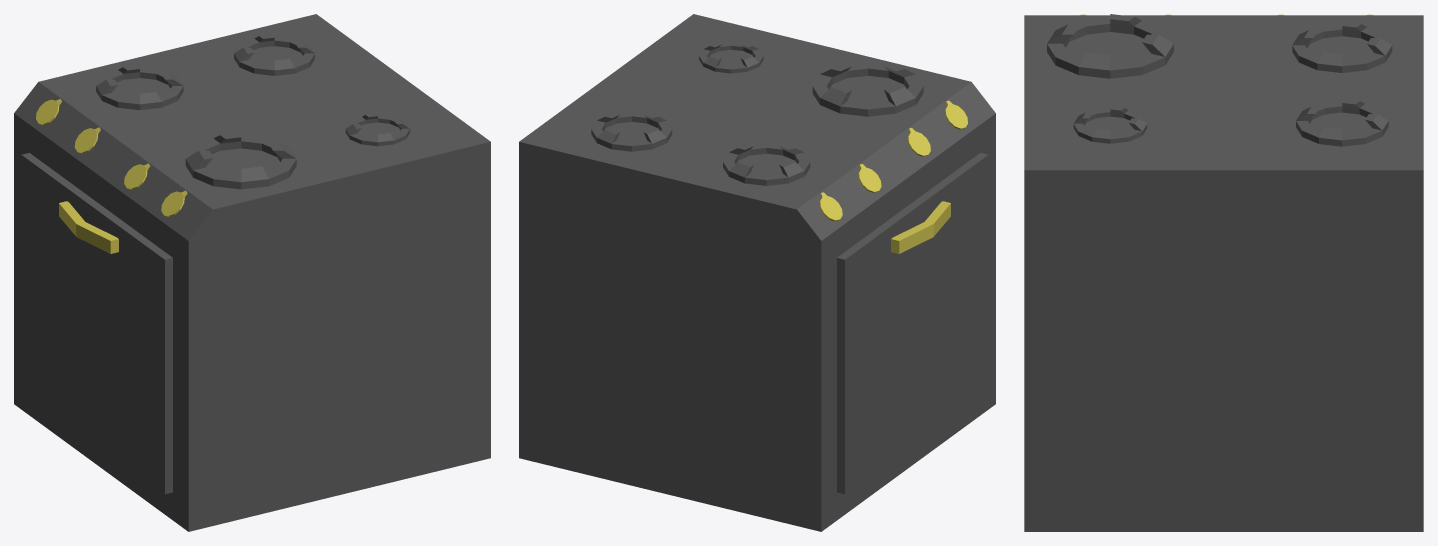
The model's file is Stove.fbx.
The picture shows the model from 3 angles, left to right: view 1: azimuth 30°, elevation 25°; view 2: azimuth 150°, elevation 25°; view 3: azimuth 270°, elevation 25°; orthographic projection. The views are drawn at different scales.
Parts seen in each view (by area): view 1: Stove; view 2: Stove; view 3: Stove.
Part boxes in pixels (x1,y1,x2,y2): Stove: (14,14,490,531); Stove: (519,14,995,531); Stove: (1024,14,1423,531).
Size of the model in its own units: 270 by 262 by 250.
